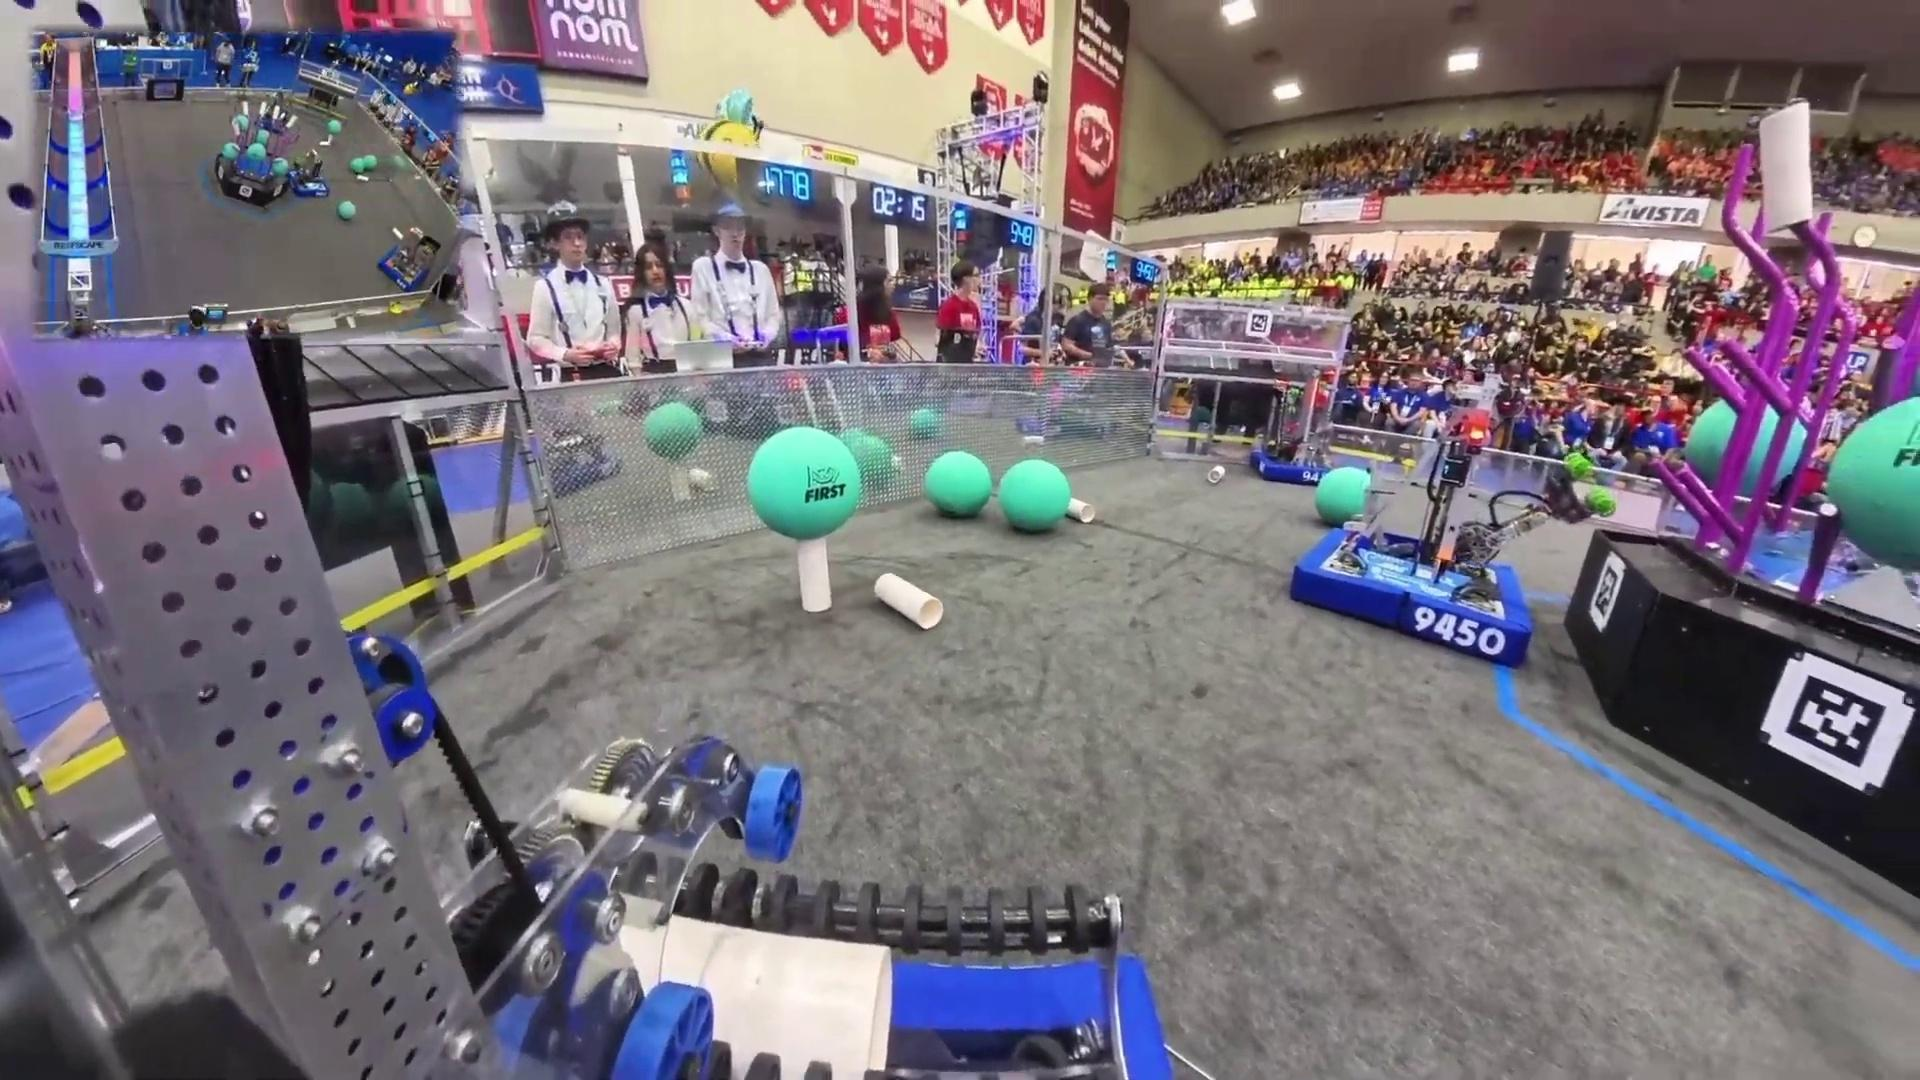robot: (1287, 369, 1540, 670), (1249, 382, 1328, 484), (377, 231, 434, 294), (287, 149, 328, 200)
